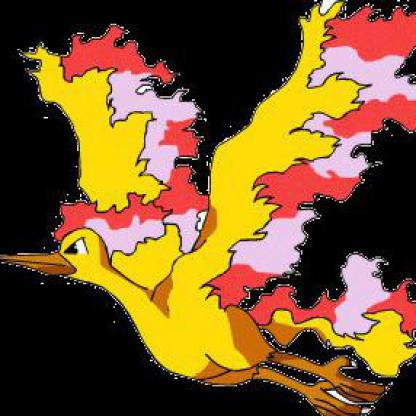Moltres: (1, 16, 416, 415)
